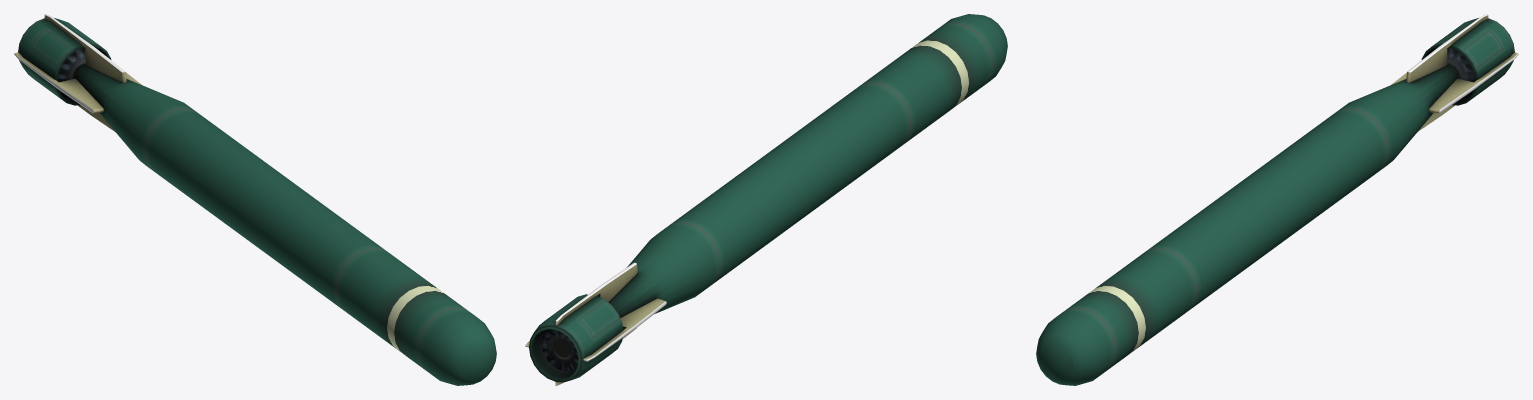
The model's file is topedoe_01.fbx.
3 views of the same model, side by side, from view 1: azimuth 30°, elevation 25°; view 2: azimuth 150°, elevation 25°; view 3: azimuth 330°, elevation 25° (orthographic).
Visible parts, largest first — view 1: torpedoe; view 2: torpedoe; view 3: torpedoe.
Boxes of the visible parts, x1,y1,x2,y2 form: torpedoe: (14, 14, 496, 385); torpedoe: (525, 14, 1007, 385); torpedoe: (1036, 14, 1518, 385).
Size of the model in its own units: 0.5185 by 0.5185 by 5.98.
